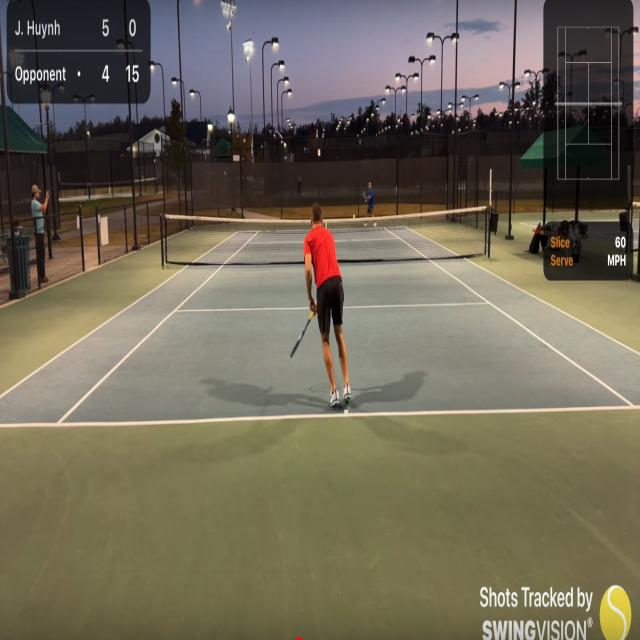ball: (353, 214, 355, 220)
